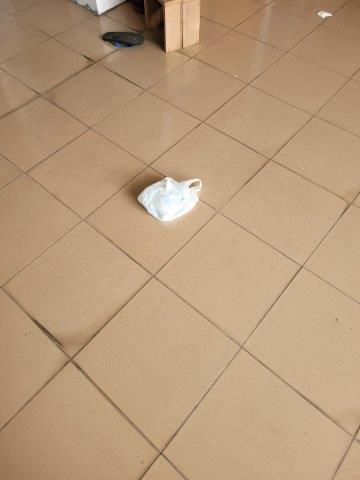plastik: (138, 175, 202, 222)
